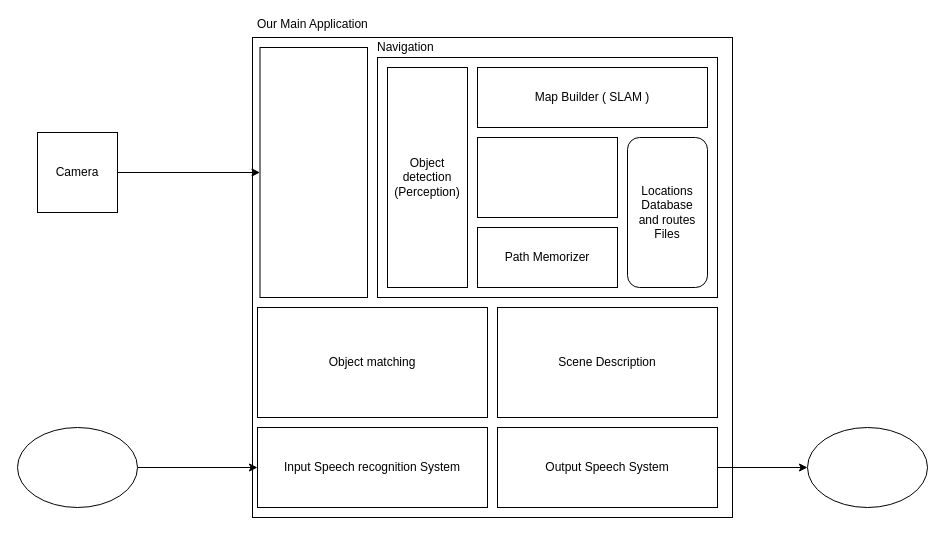
The diagram is 945 pixels wide and 535 high, and some of its shapes have lost their labels. Each missing label, with the box of its shape:
Input Sound: (16, 426, 138, 508)
Output Sound: (806, 426, 928, 508)
Preprocessing Image Processing System: (259, 46, 368, 298)
Router (Path Planner): (476, 136, 618, 218)
